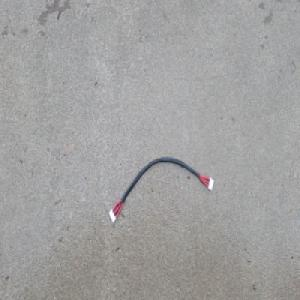Wire: (107, 155, 216, 225)
